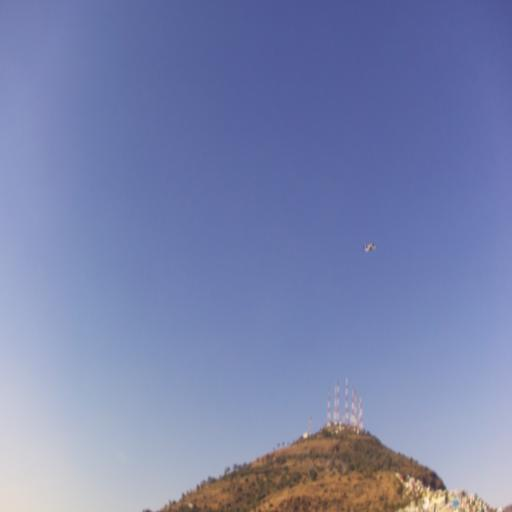drones: (362, 240, 378, 256)
